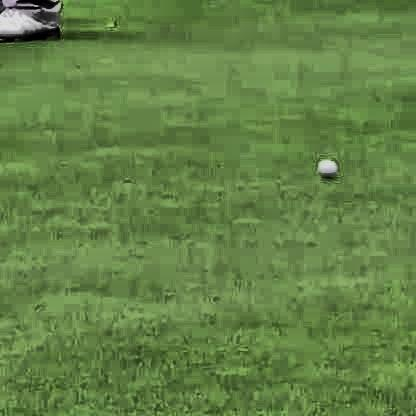golfball: (313, 154, 336, 177)
